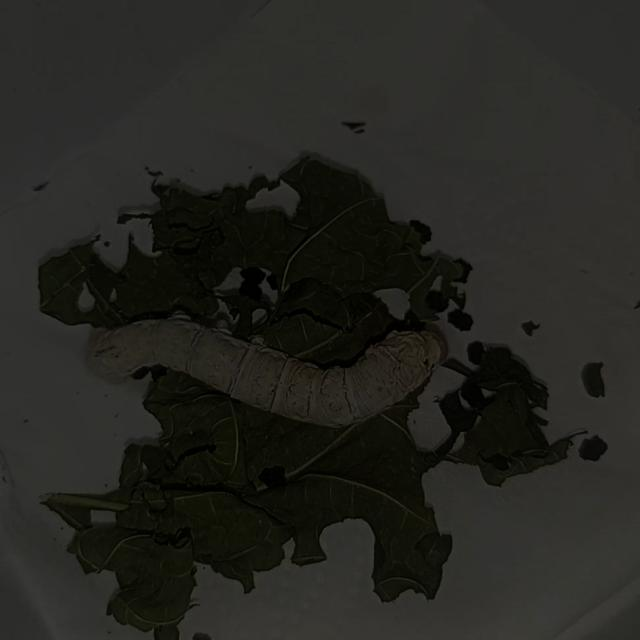Healthy: (82, 300, 454, 442)
